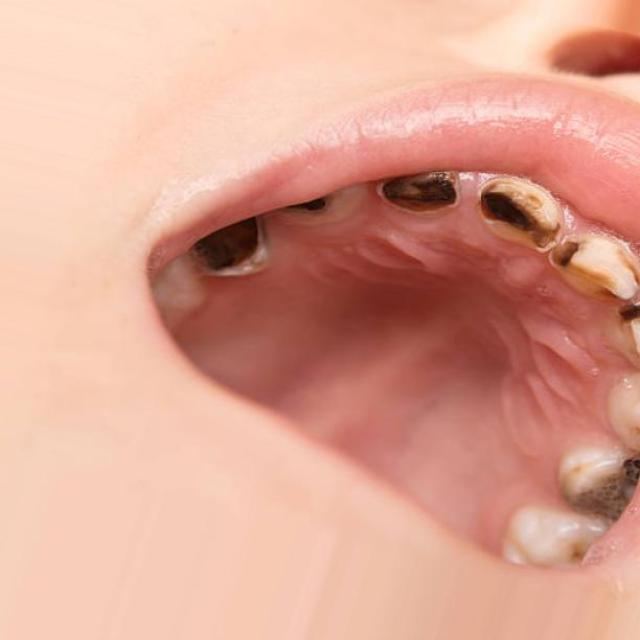caries: (552, 227, 640, 323), (562, 433, 640, 521), (473, 168, 559, 244), (194, 211, 273, 283), (380, 165, 463, 220), (278, 196, 350, 228)
